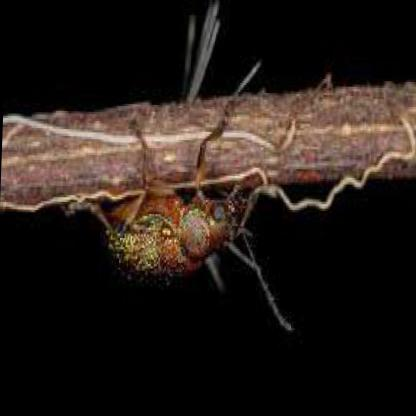ash weevil: (99, 107, 271, 284)
